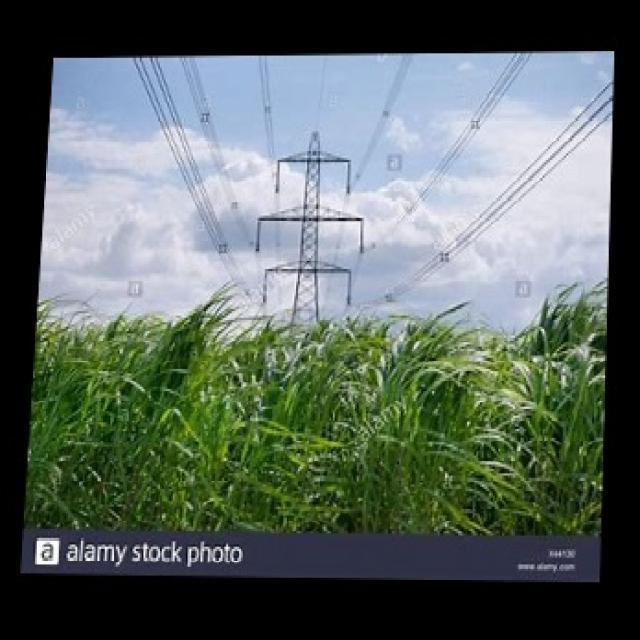utility poles: (263, 108, 361, 534)
